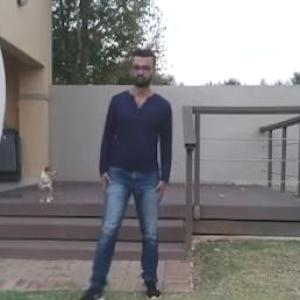follow: (113, 52, 172, 291)
